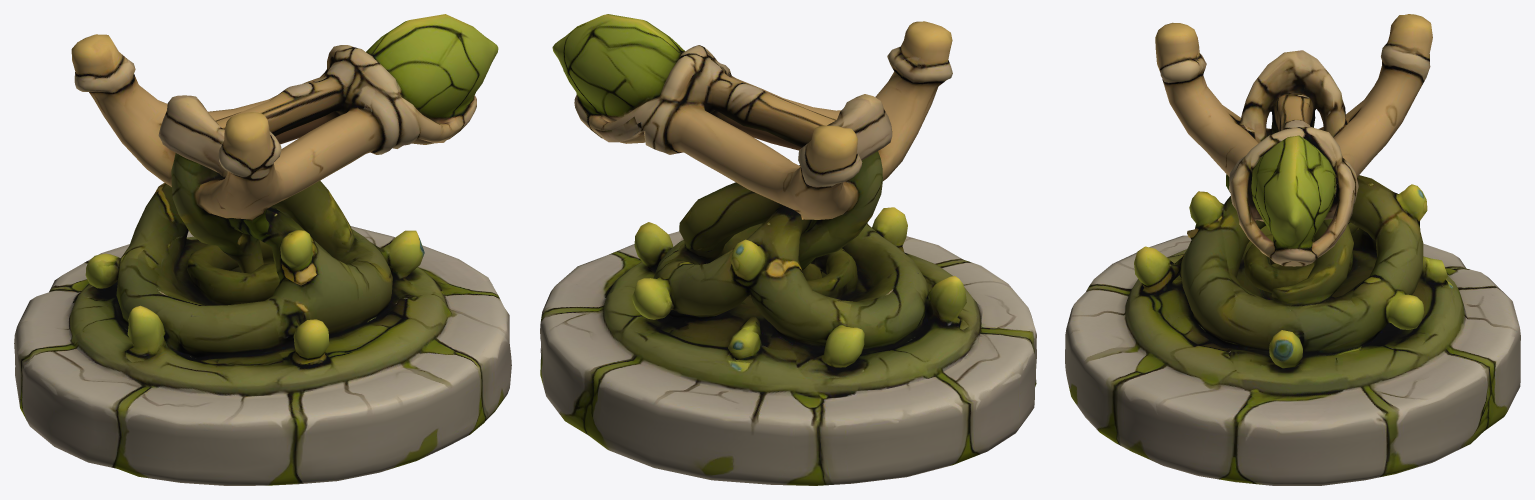
3 renders of one model, left to right at view 1: azimuth 30°, elevation 25°; view 2: azimuth 150°, elevation 25°; view 3: azimuth 270°, elevation 25°, orthographic. The views are drawn at different scales.
Visible parts, largest first — view 1: tripo_node_e88e85a0; view 2: tripo_node_e88e85a0; view 3: tripo_node_e88e85a0.
Boxes of the visible parts, x1,y1,x2,y2 form: tripo_node_e88e85a0: (14, 14, 511, 485); tripo_node_e88e85a0: (540, 14, 1036, 485); tripo_node_e88e85a0: (1065, 14, 1520, 485).
Size of the model in its own units: 0.9742 by 0.6909 by 0.8785.
